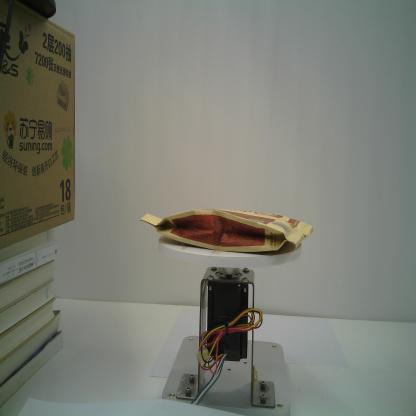Dried Food: (140, 208, 314, 252)
